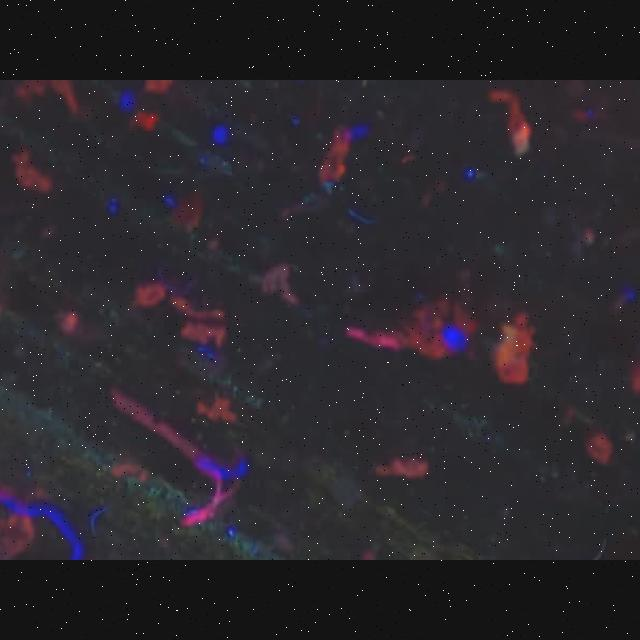Fragment: (492, 313, 535, 385), (319, 126, 353, 185)
